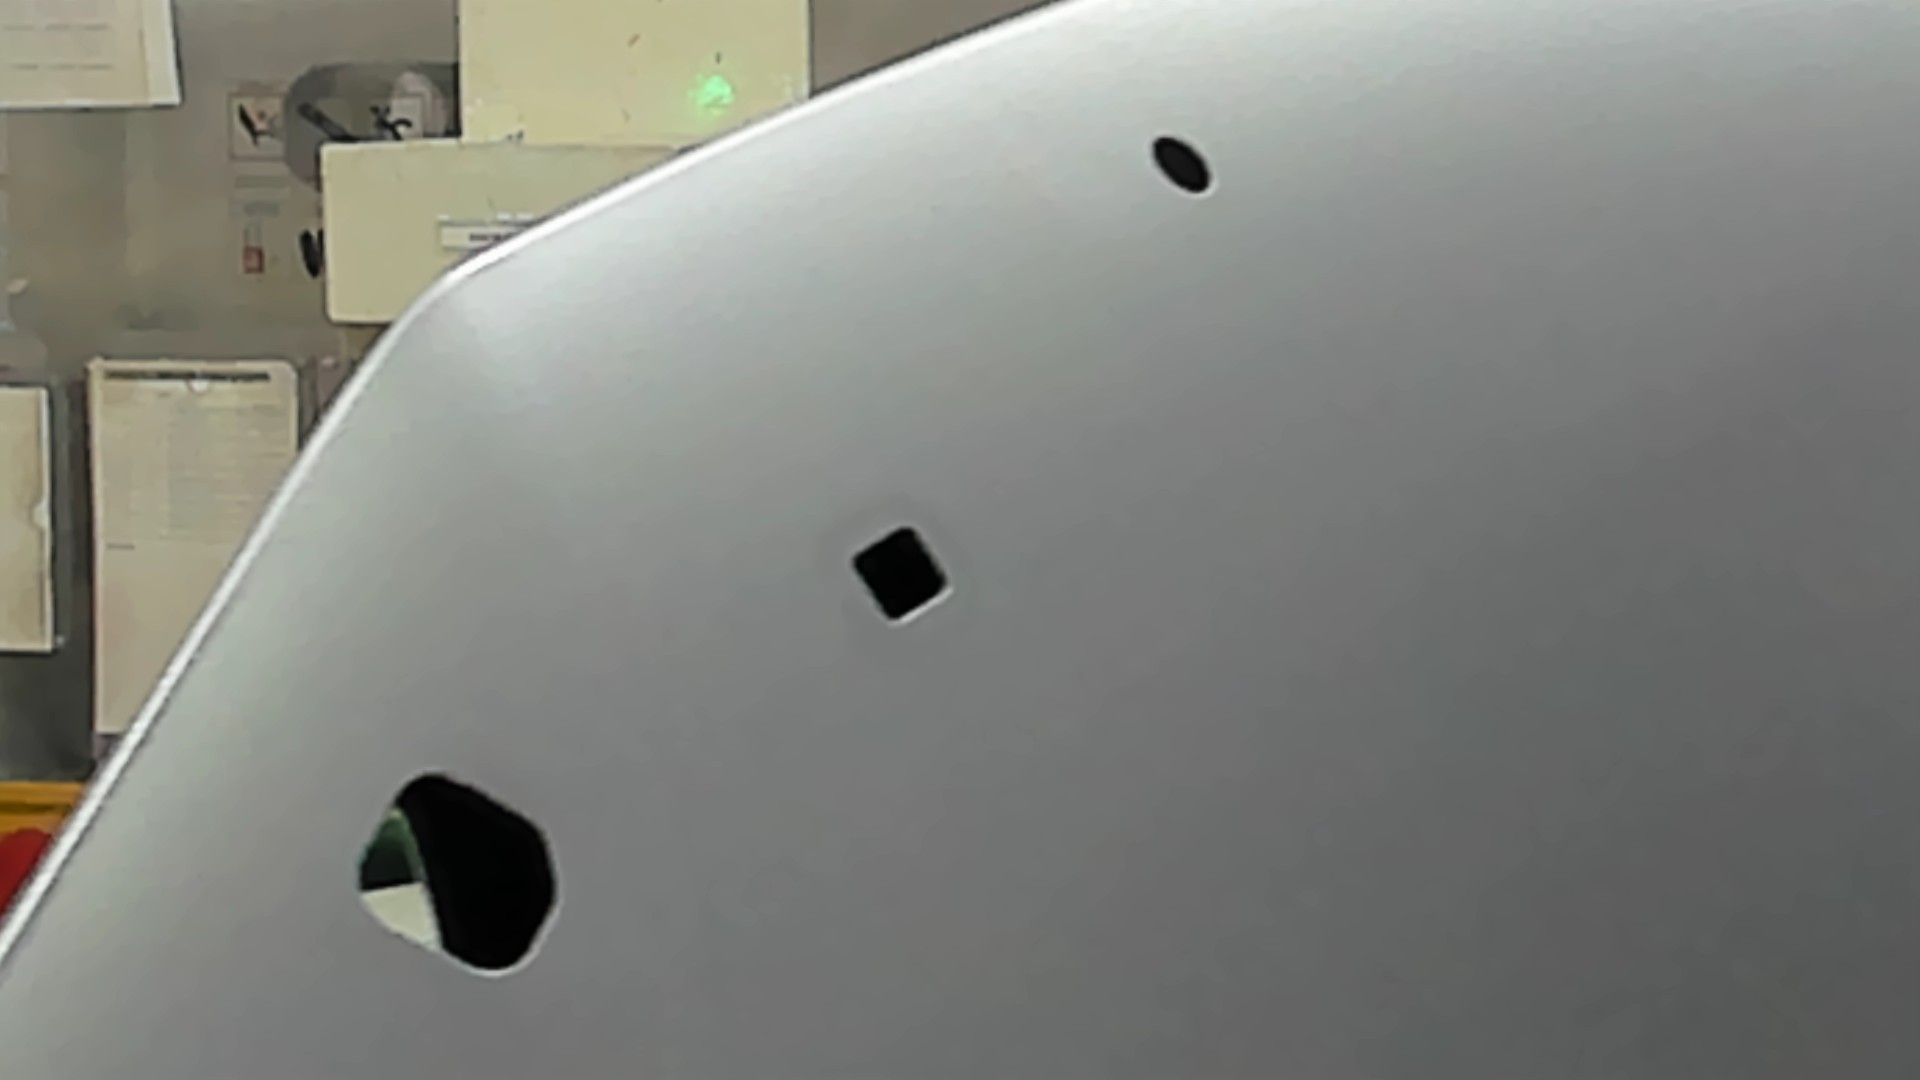chico: (1146, 127, 1222, 218)
grande: (338, 753, 575, 1015)
mediano: (829, 501, 971, 646)
